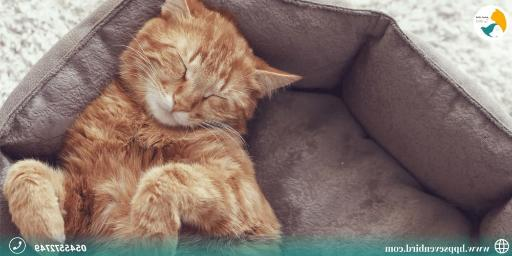cat_sleeping: (3, 0, 301, 255)
